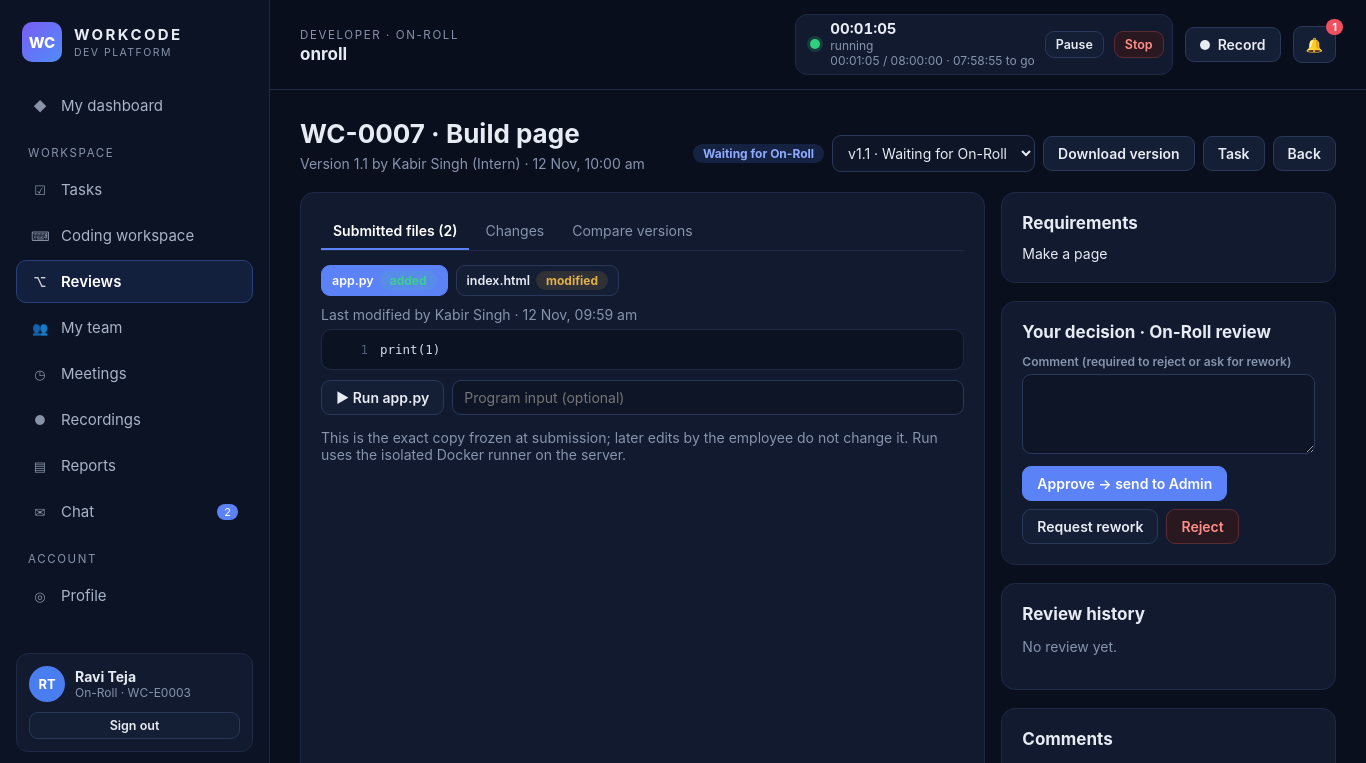
Test: reviews › an On-Roll reviewer sees the queue tabs, runs the submitted snapshot and must give a reason to reject
Later steps or results of the test are not shown.
Expected: the text "Version 1.1 by Kabir Singh (Intern) · 12 Nov, 10:00 am" is shown, x1=300 y1=154 x2=645 y2=172
Expected: the text "Last modified by Kabir Singh" is shown, x1=321 y1=306 x2=637 y2=322
Click the button "▶ Run app.py": click(383, 397) x1=321 y1=380 x2=444 y2=414
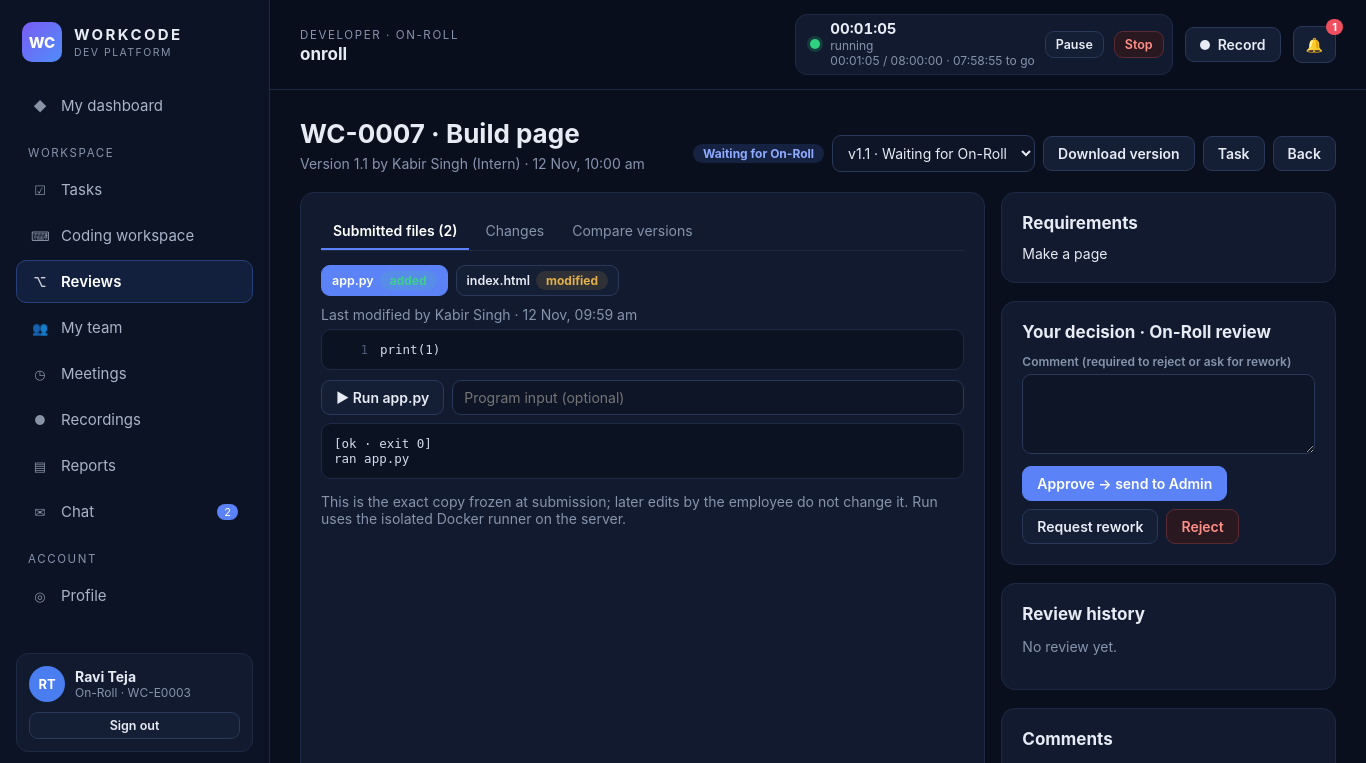
Expected: the text named "Run output" shows "ran app.py", x1=334 y1=436 x2=432 y2=466
Click the button "Reject": click(1203, 526) x1=1166 y1=508 x2=1239 y2=544
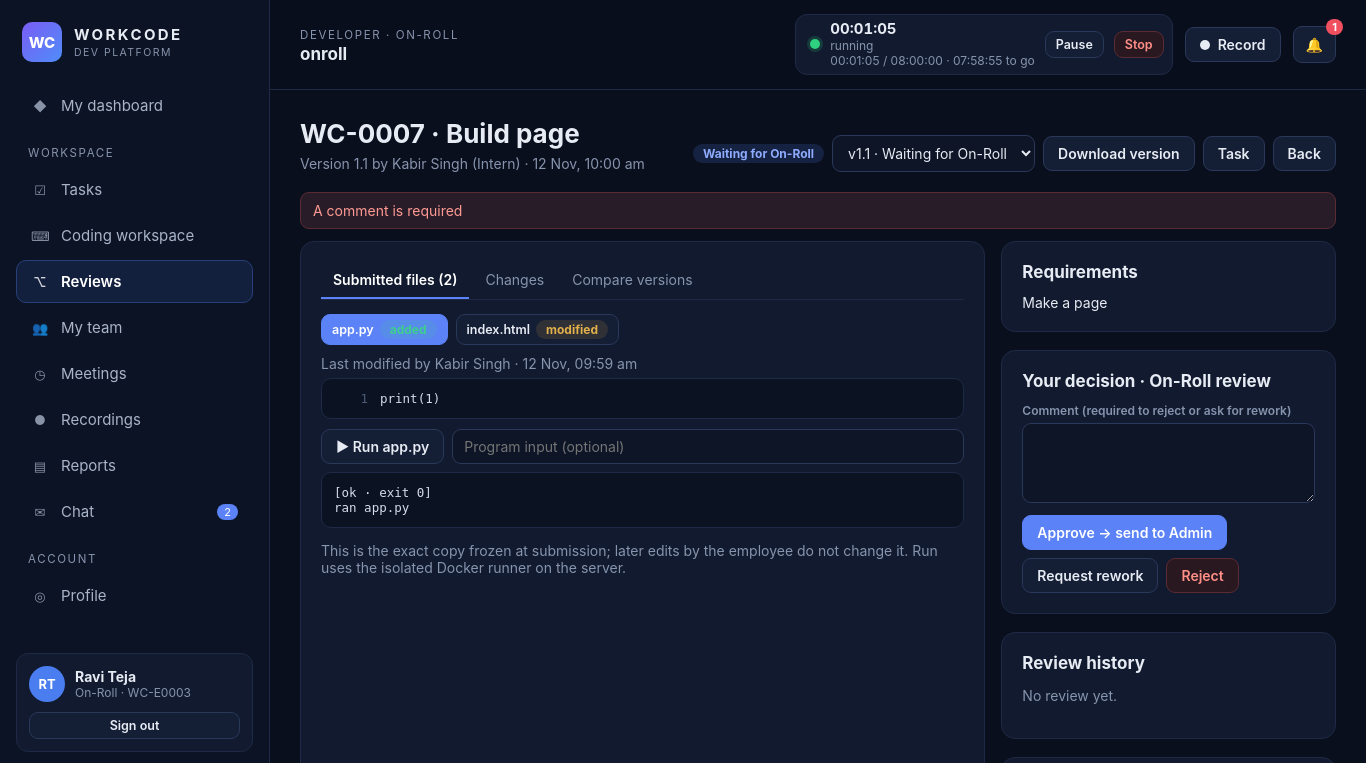
Expected: the message reads "A comment is required", x1=313 y1=202 x2=462 y2=218
Click the button "Approve → send to Admin": click(1125, 532) x1=1022 y1=514 x2=1227 y2=550
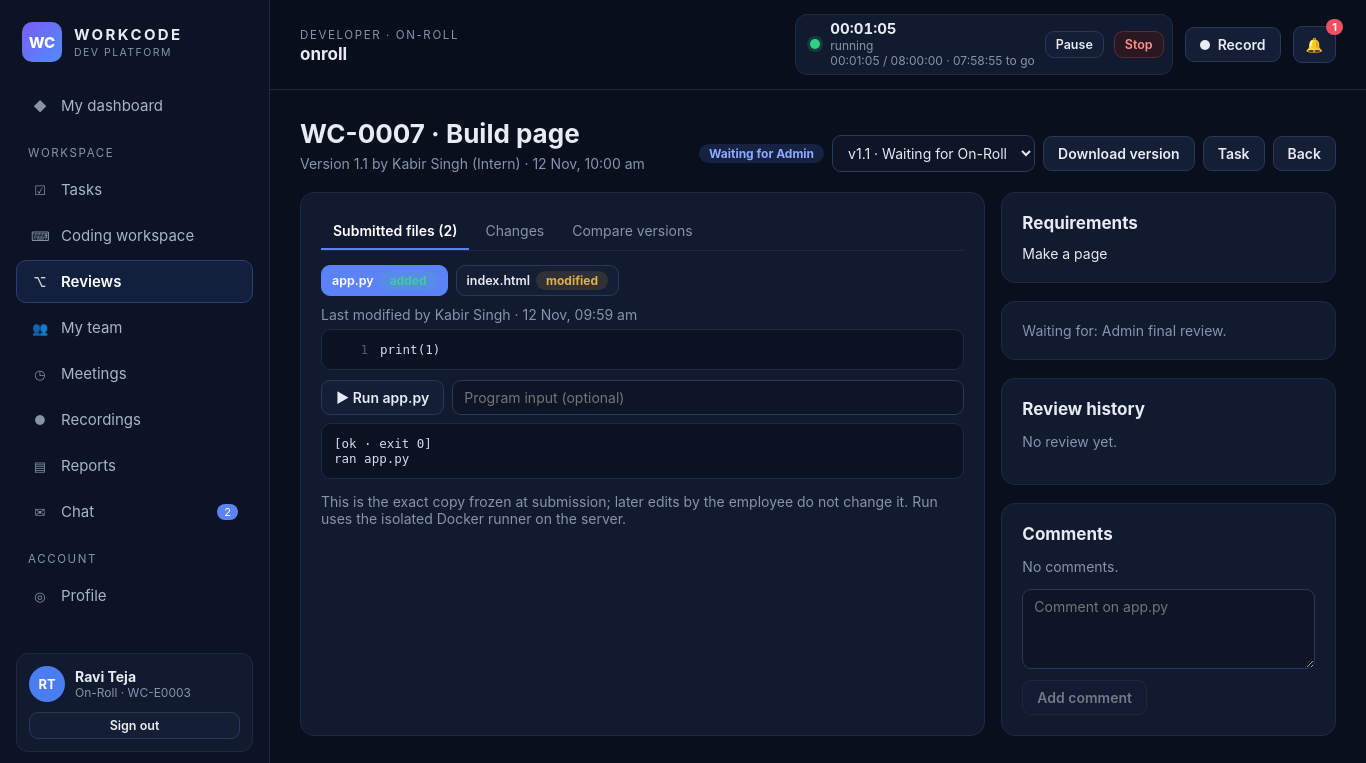
Expected: the text "Waiting for: Admin final review." is shown, x1=1001 y1=300 x2=1336 y2=360
Expected: the label "reject" is gone
